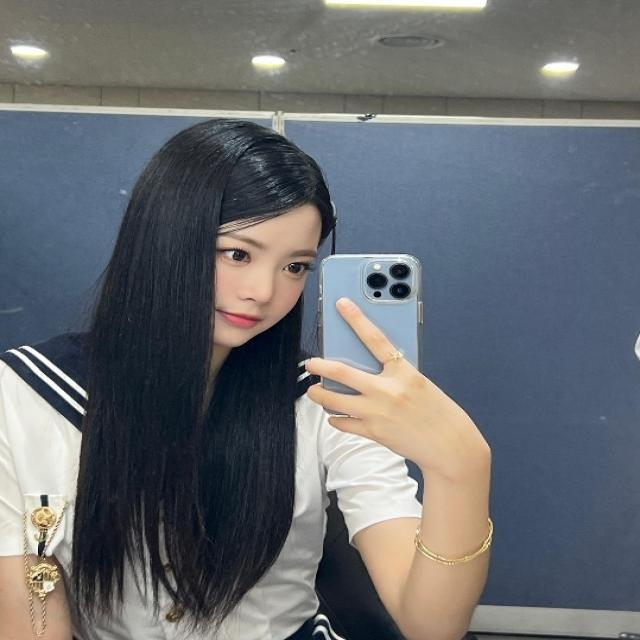phone: (321, 255, 422, 415)
